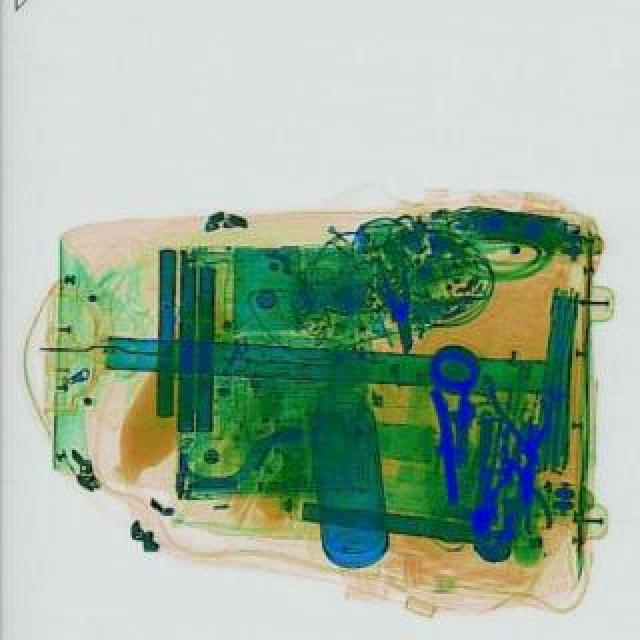wrench: (484, 372, 558, 470), (370, 236, 422, 356), (462, 446, 520, 538), (512, 476, 554, 536)
